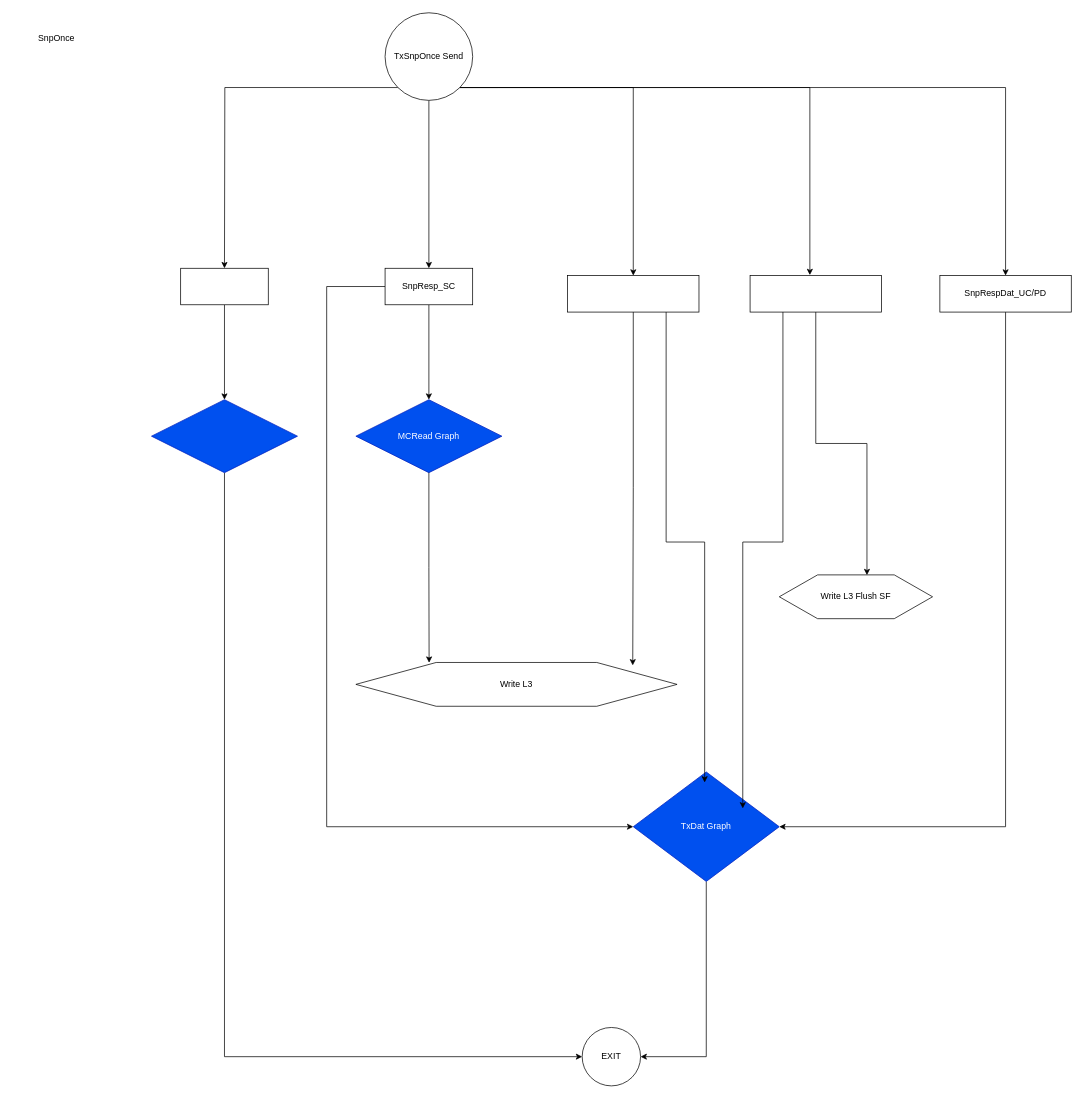
Some shapes in this 1084 by 1099 pixel diagram are drawn without their labels. The centre of each missing label's shape, as x and y in pixels:
"MCDMT Graph" belongs at (224,436).
"SnpResp_I/UC" belongs at (224,286).
"SnpRespDat_I/SC/SC_PD" belongs at (633,293).
"SnpRespDat_I_PD" belongs at (815,293).
